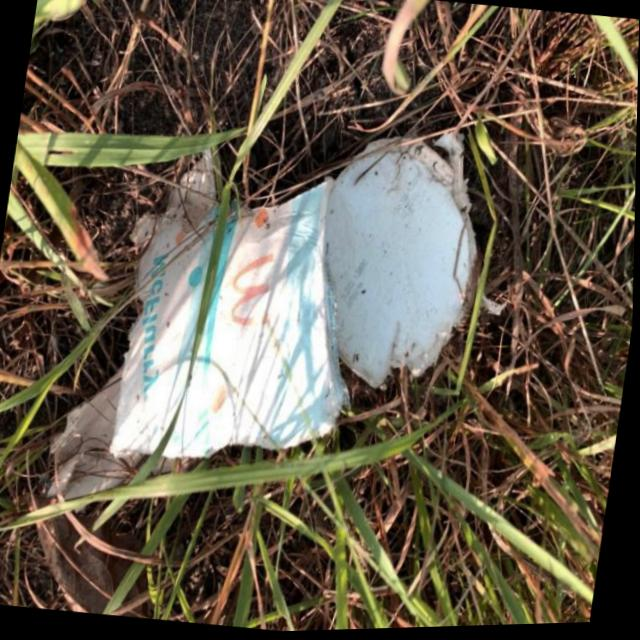Paper: (39, 91, 502, 562)
